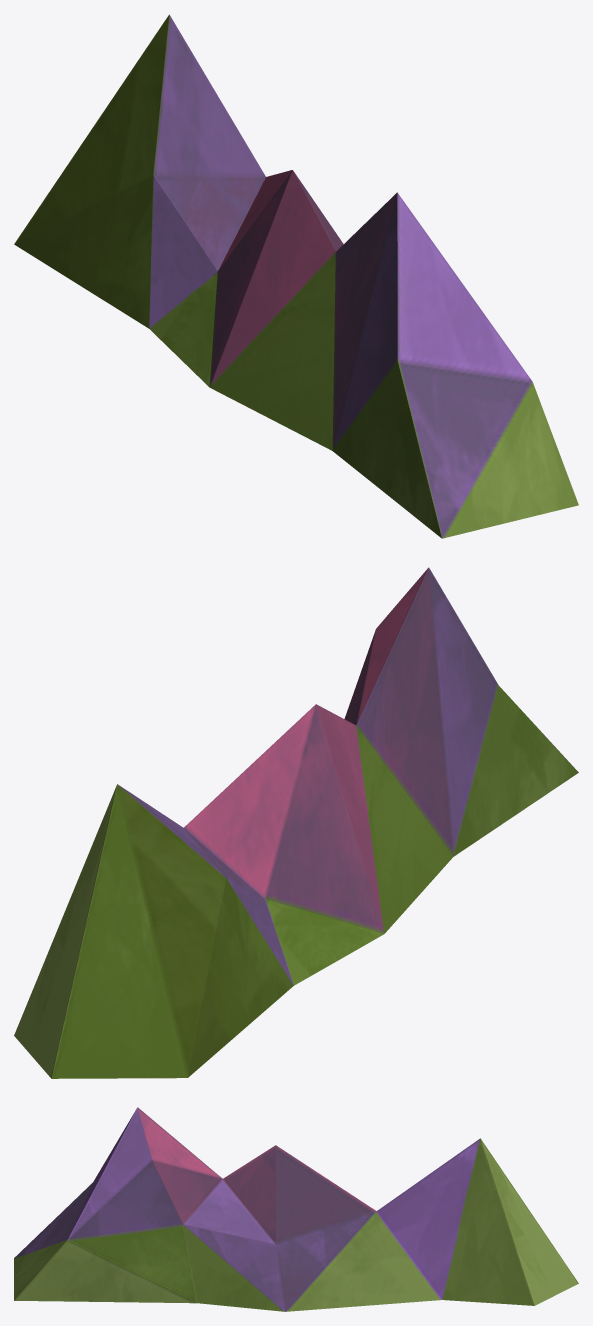
File: wall_straight_deco.fbx
The picture shows the model from 3 angles, top to bottom: view 1: azimuth 30°, elevation 25°; view 2: azimuth 150°, elevation 25°; view 3: azimuth 270°, elevation 25°; orthographic projection. The views are drawn at different scales.
Visible parts, largest first — view 1: wall_straight_deco; view 2: wall_straight_deco; view 3: wall_straight_deco.
Part boxes in pixels (box(x1,y1,x2,y2)): wall_straight_deco: box(14, 14, 578, 538); wall_straight_deco: box(14, 567, 578, 1078); wall_straight_deco: box(14, 1107, 578, 1311).
Size of the model in its own units: 1 by 1.31 by 4.
